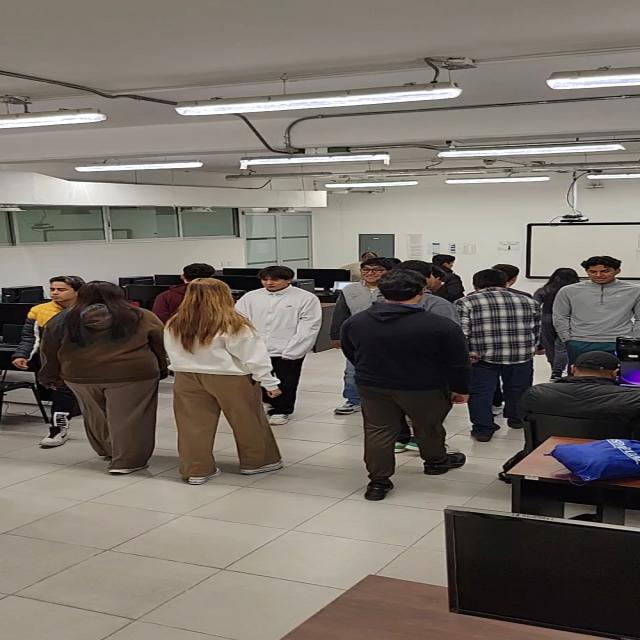Persona: (165, 280, 276, 466), (349, 273, 453, 458), (67, 287, 163, 461), (469, 272, 529, 418), (250, 263, 313, 390), (562, 255, 637, 359), (32, 269, 79, 362), (336, 260, 382, 304)
